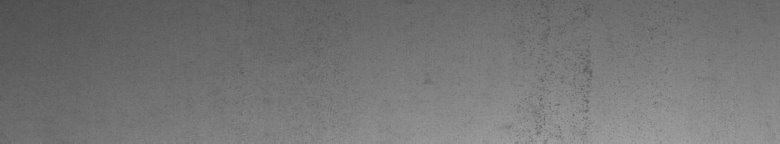ib: (505, 58, 594, 136)
